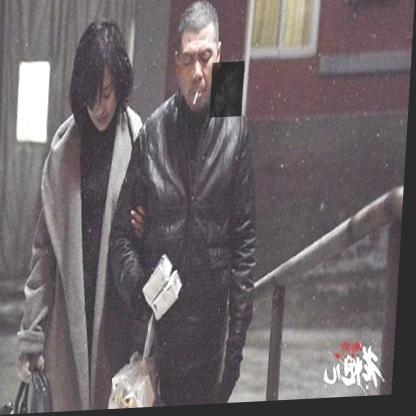smoke: (211, 64, 246, 120)
